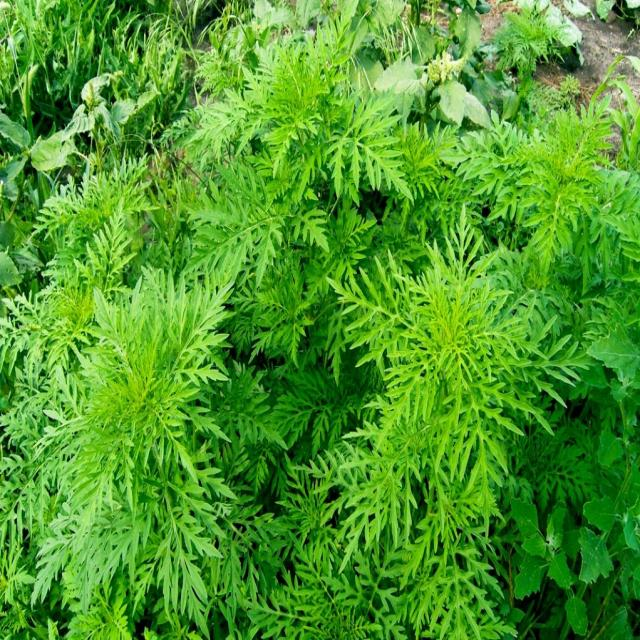ambrosia: (75, 268, 242, 629), (320, 231, 568, 471), (265, 495, 519, 640), (224, 44, 405, 202), (486, 94, 618, 209), (37, 169, 143, 236), (482, 4, 578, 72)
